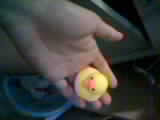duck: (74, 52, 108, 101)
